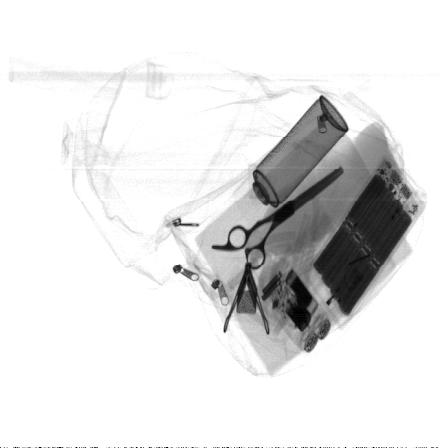Lighter: (325, 263, 363, 314)
Powerbank: (303, 152, 425, 331)
Scissors: (212, 166, 346, 271)
Sprayer: (231, 94, 347, 234)
